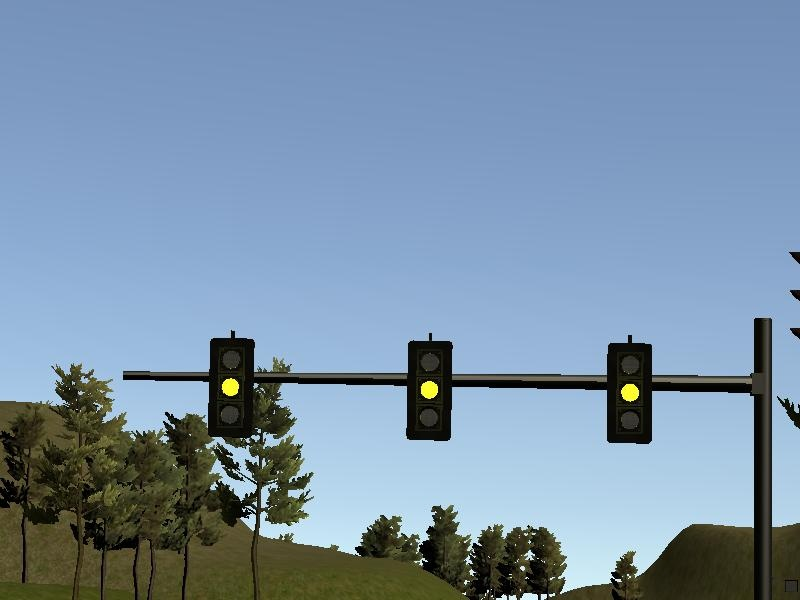YELLOW: (604, 341, 653, 445), (405, 336, 454, 440), (208, 336, 257, 440)
